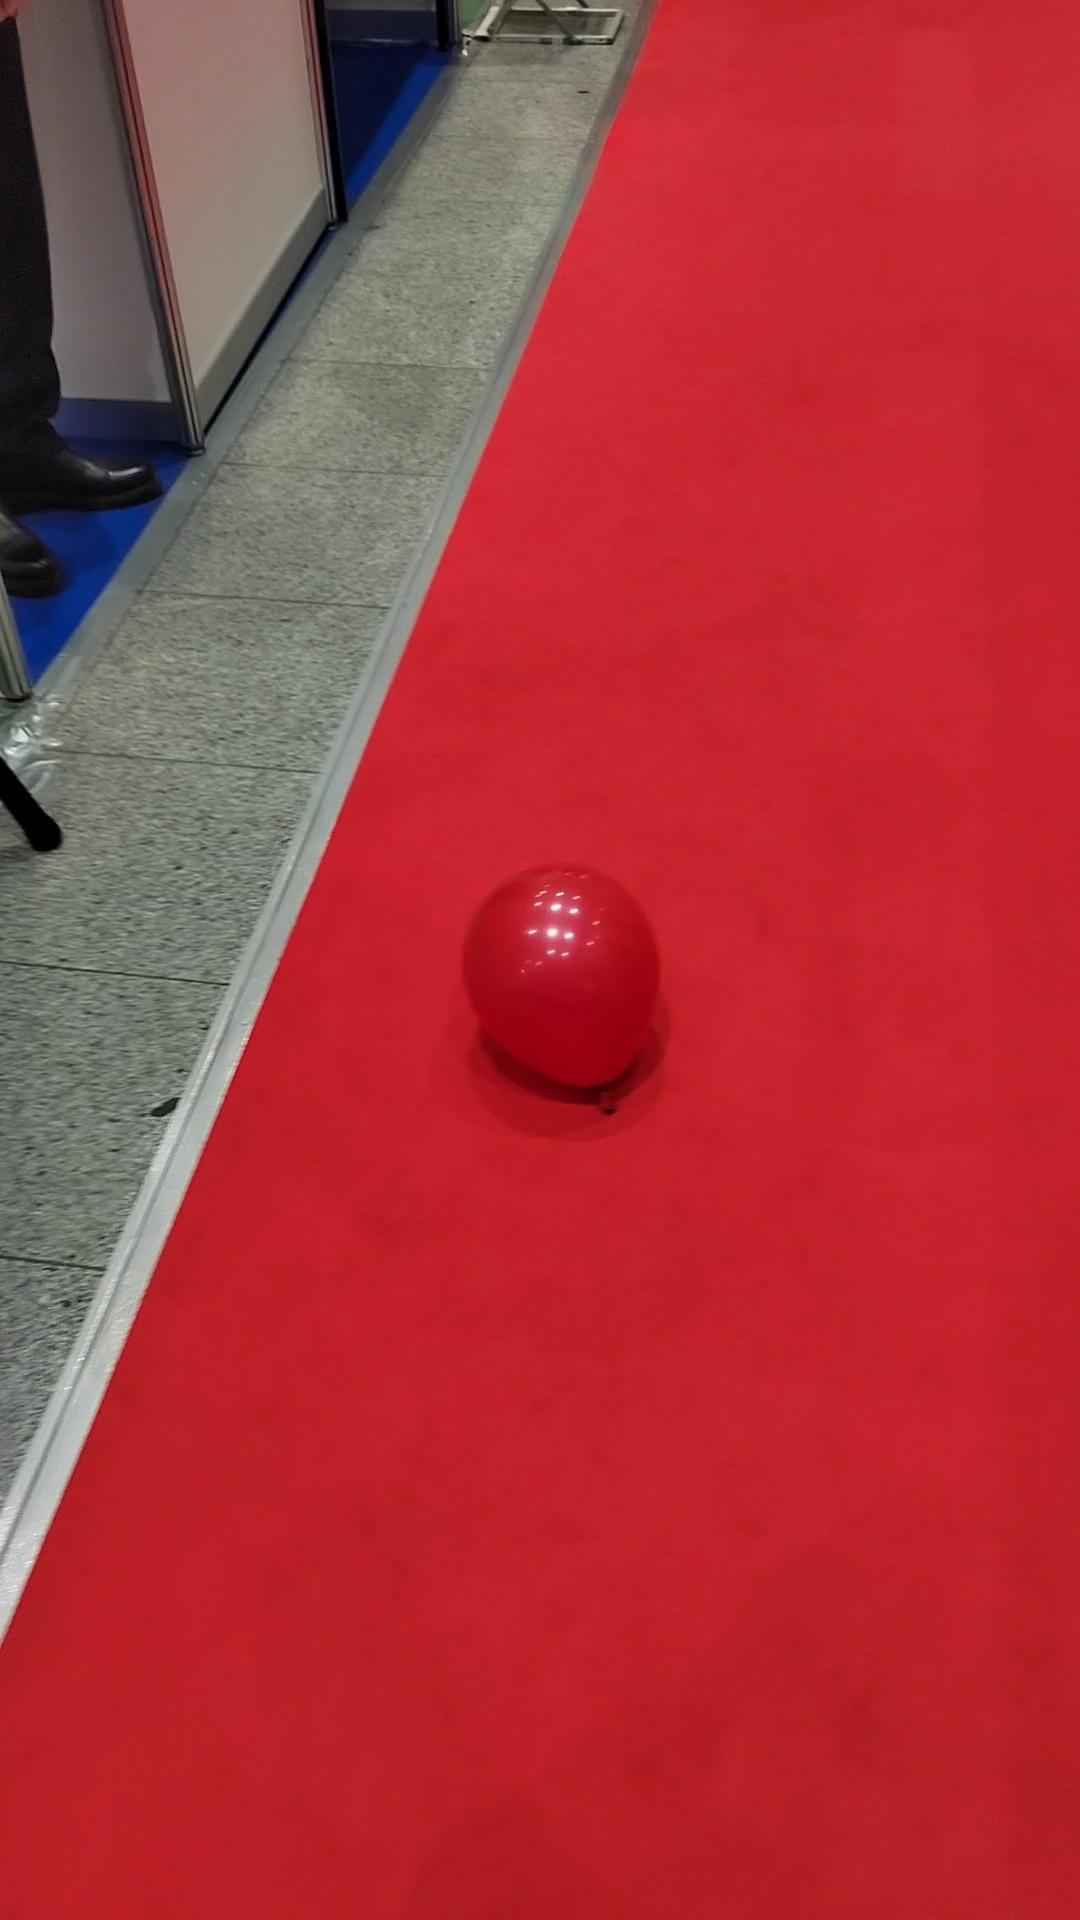red: (460, 861, 667, 1100)
